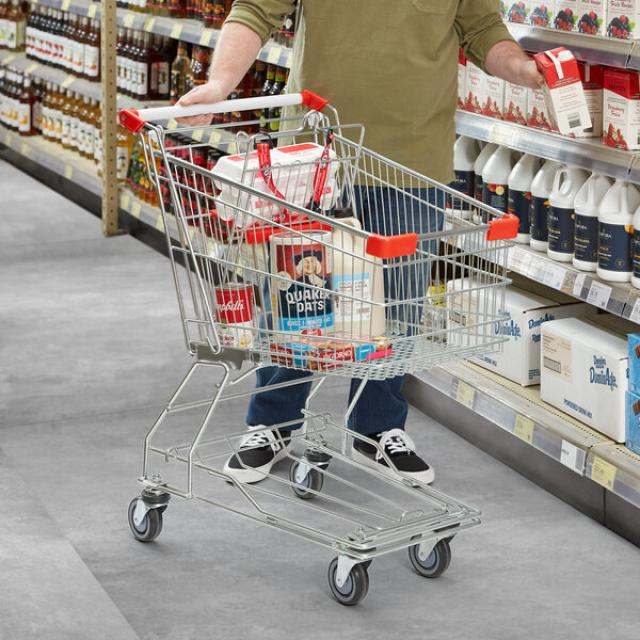Person: (176, 0, 542, 484)
